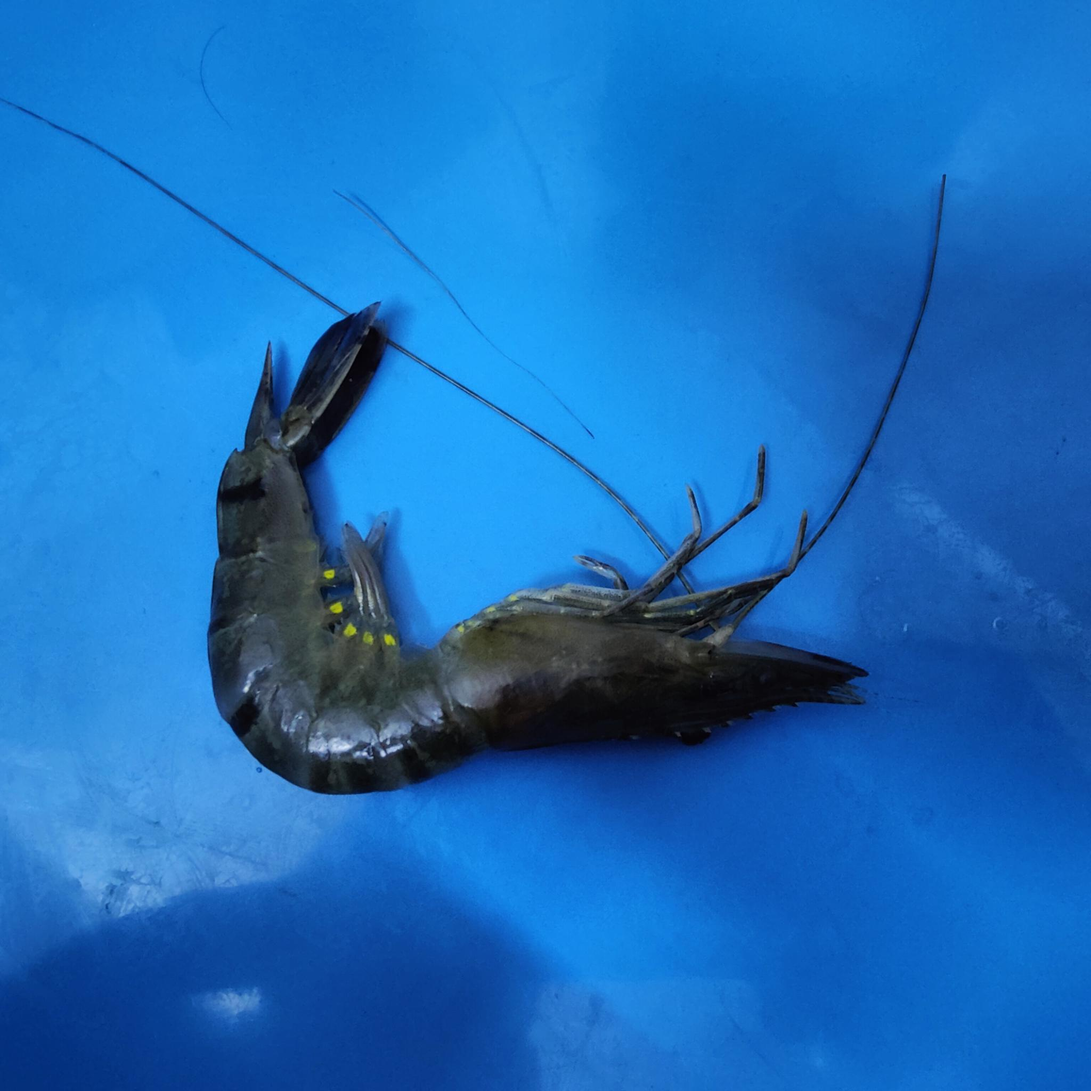whitespot: (290, 601, 655, 747)
